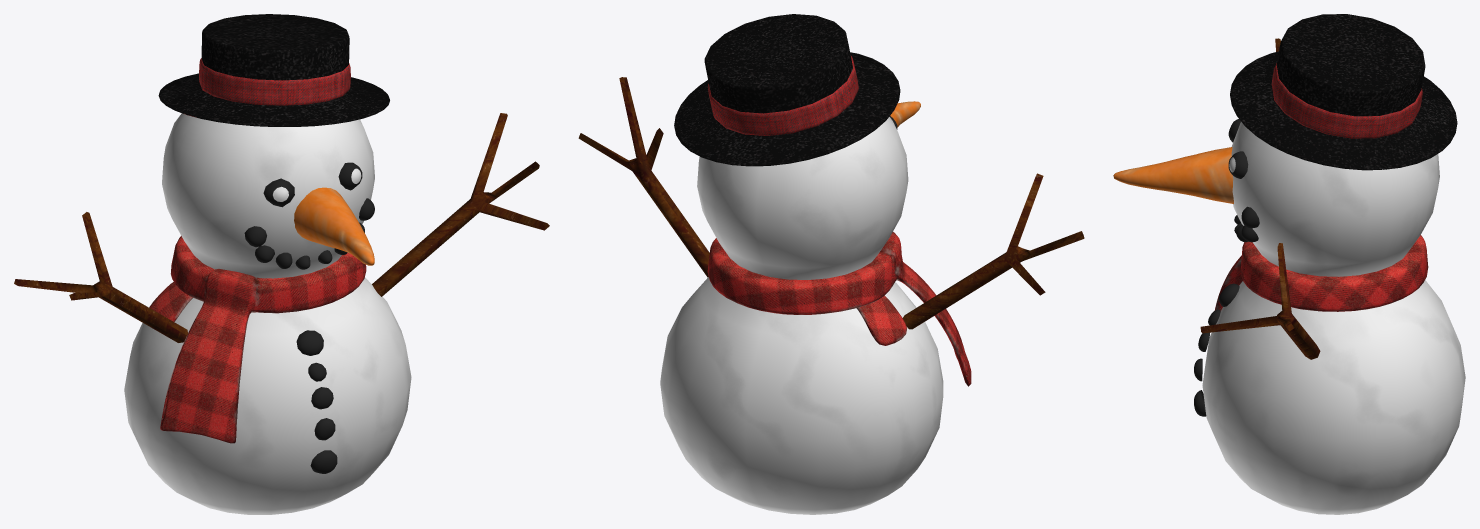
File: SnowMan_v0002.fbx
The picture shows the model from 3 angles, left to right: view 1: azimuth 30°, elevation 25°; view 2: azimuth 150°, elevation 25°; view 3: azimuth 270°, elevation 25°; orthographic projection.
Parts seen in each view (by area): view 1: Sphere20; view 2: Sphere20; view 3: Sphere20.
Boxes of the visible parts, x1=… form: Sphere20: x1=14, y1=14, x2=549, y2=514; Sphere20: x1=578, y1=14, x2=1084, y2=514; Sphere20: x1=1113, y1=14, x2=1465, y2=514.
Size of the model in its own units: 15.5 by 13.64 by 9.57.
1 material, 1 textured.
